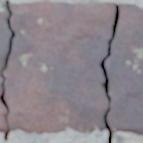broken_brick: (5, 2, 114, 134), (105, 4, 142, 136), (0, 5, 11, 70), (0, 101, 7, 135), (0, 78, 3, 95)
crack: (100, 6, 120, 142), (0, 1, 16, 141)
